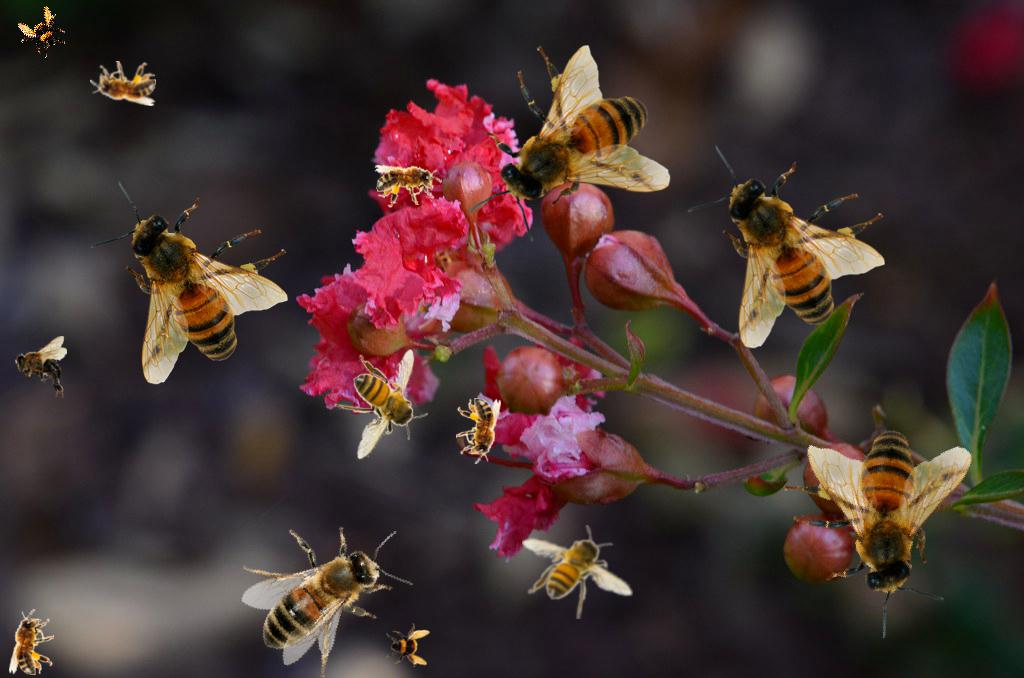Bee: (742, 374, 1023, 656), (465, 42, 674, 246), (89, 181, 288, 385), (686, 145, 885, 349), (218, 489, 427, 678), (522, 525, 633, 619), (334, 349, 428, 460), (373, 156, 445, 211), (11, 2, 73, 64), (14, 336, 67, 398), (90, 61, 156, 106), (456, 398, 501, 464), (9, 609, 54, 675), (386, 623, 430, 667)
